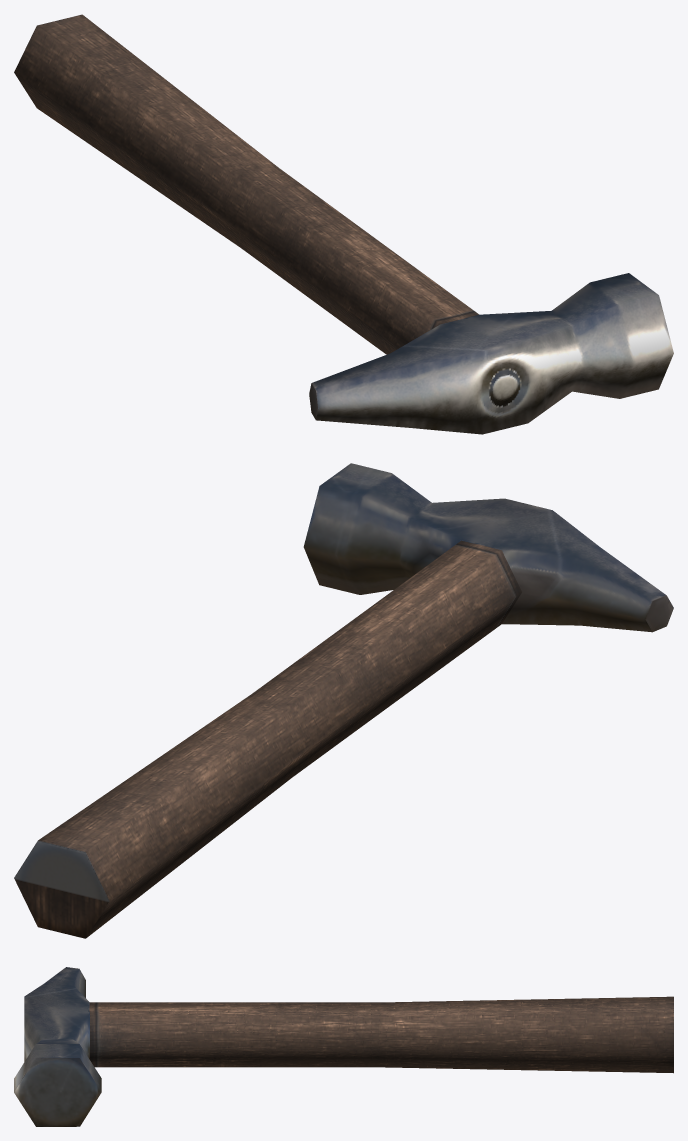
File: tool_Hammer.fbx
3 views of the same model, one above another, from view 1: azimuth 30°, elevation 25°; view 2: azimuth 150°, elevation 25°; view 3: azimuth 270°, elevation 25° (orthographic). The views are drawn at different scales.
Parts seen in each view (by area): view 1: Hammer; view 2: Hammer; view 3: Hammer.
Part boxes in pixels (x1,y1,x2,y2): Hammer: [14, 14, 673, 434]; Hammer: [14, 463, 673, 938]; Hammer: [14, 967, 673, 1126].
Bounding box in the file's own units: 12.59 × 3.51 × 30.42.
